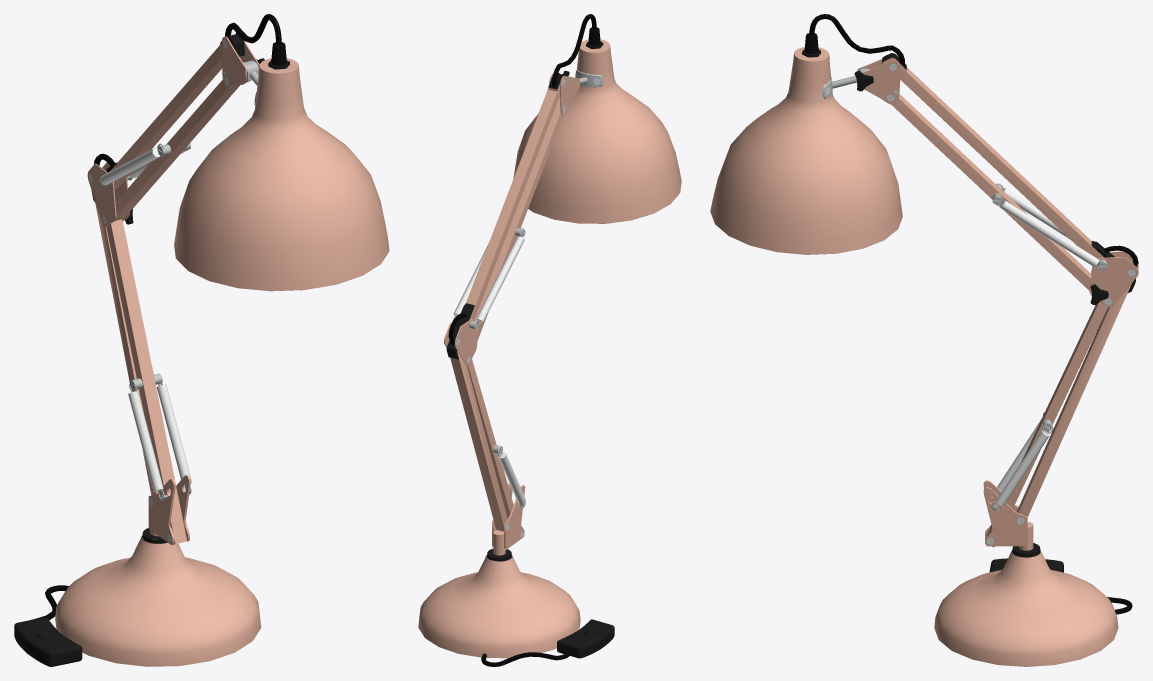
File: 7200404_lampara_de_mesa_borgillio_acero_cobre.obj
3 views of the same model, side by side, from view 1: azimuth 30°, elevation 25°; view 2: azimuth 150°, elevation 25°; view 3: azimuth 270°, elevation 25° (orthographic). The views are drawn at different scales.
Visible parts, largest first — view 1: obj1; view 2: obj1; view 3: obj1.
Boxes of the visible parts, x1,y1,x2,y2 form: obj1: (14, 14, 389, 666); obj1: (418, 14, 681, 666); obj1: (710, 14, 1138, 666).
Bounding box in the file's own units: 0.1935 × 0.5675 × 0.3589.
Materials: 1 (1 with a texture image).
